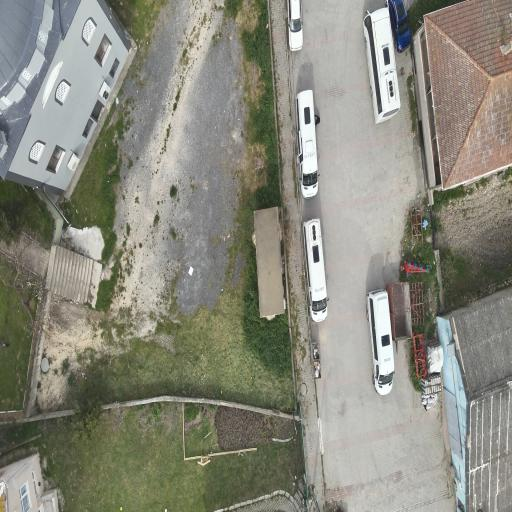car: (363, 7, 401, 124), (367, 290, 394, 395), (303, 219, 327, 322), (296, 90, 318, 198), (386, 0, 410, 51), (287, 0, 301, 50)
person: (314, 114, 319, 124)
